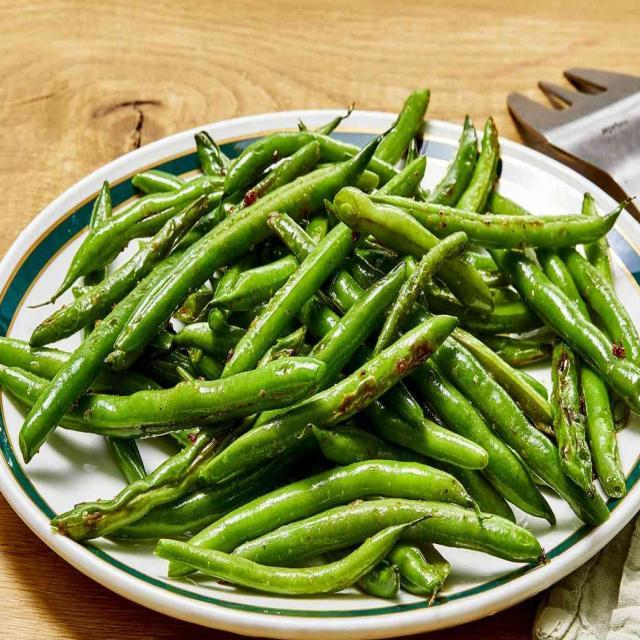Beans: (0, 80, 639, 602)
